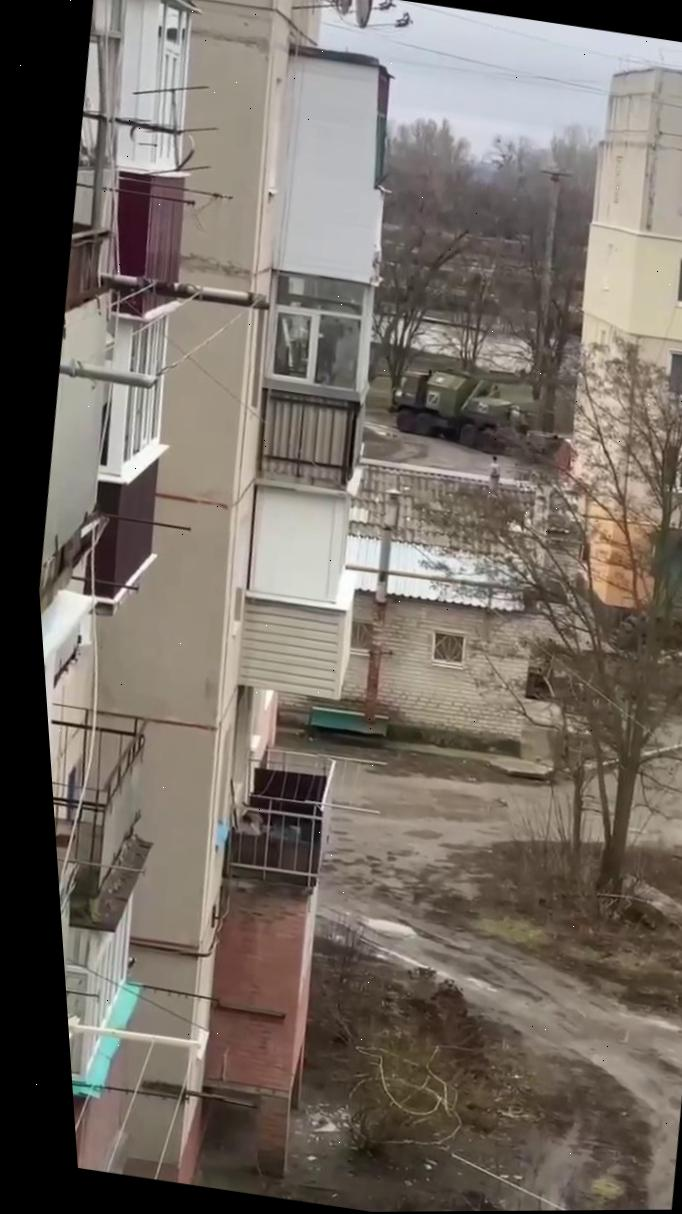truck: (380, 357, 536, 458)
